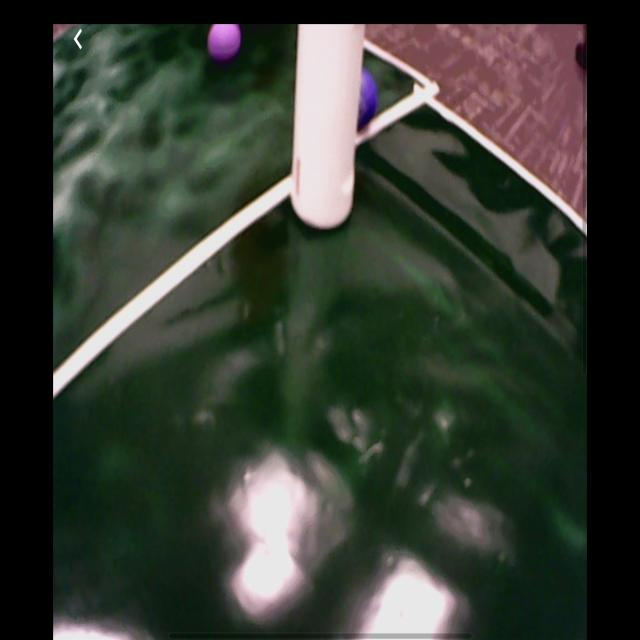ball: (207, 26, 244, 59), (358, 72, 377, 127)
